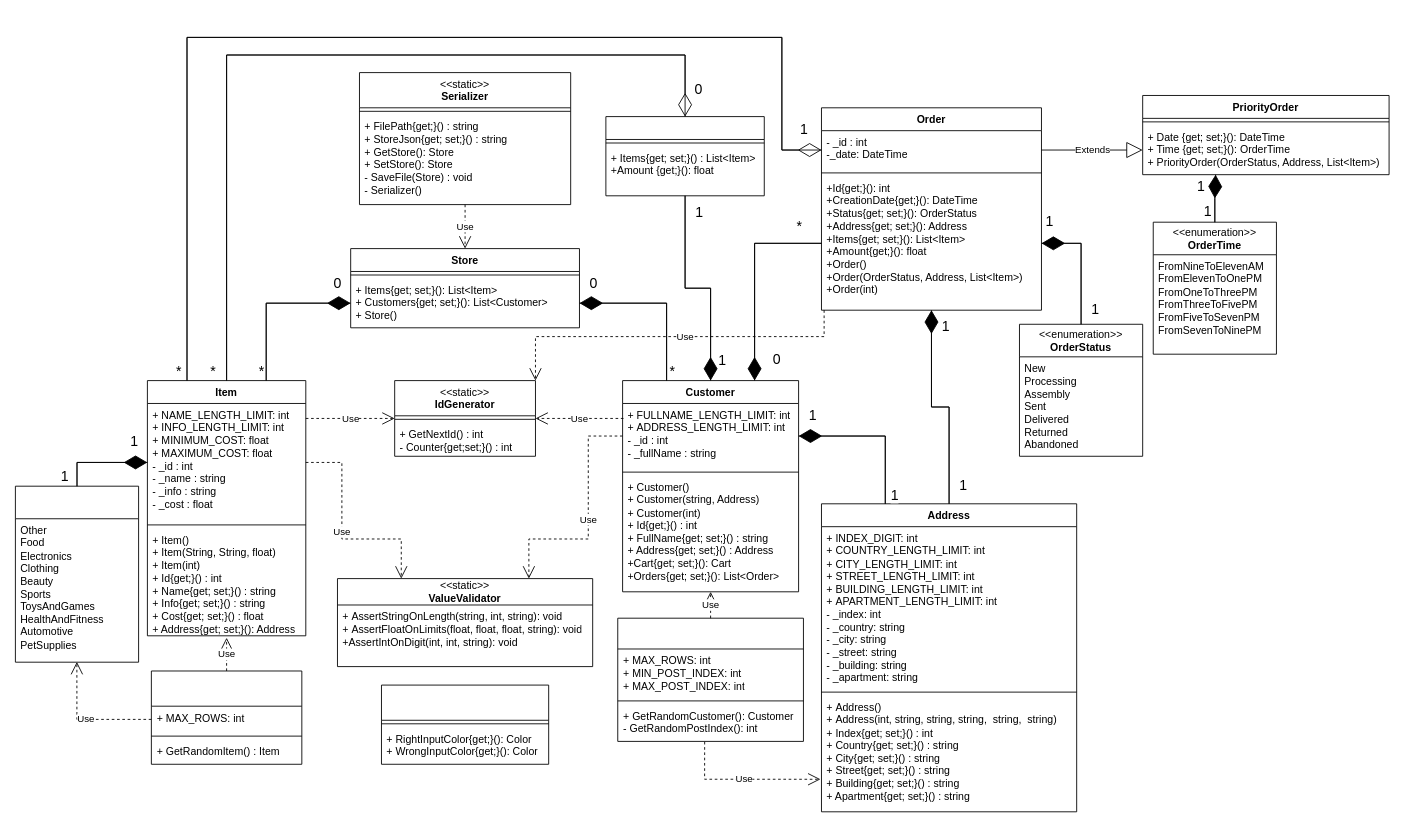
Some shapes in this 1404 by 830 pixel diagram are drawn without their labels. Here are the shapes that lost their labels. From the top down, the box of each, then its label:
(605, 116, 764, 196): Cart
(15, 485, 139, 662): <<enumeration>> Category
(617, 617, 803, 741): <<static>> CustomerFactory
(150, 670, 302, 764): <<static>> ItemFactory
(381, 684, 549, 764): <<static>> AppColors
